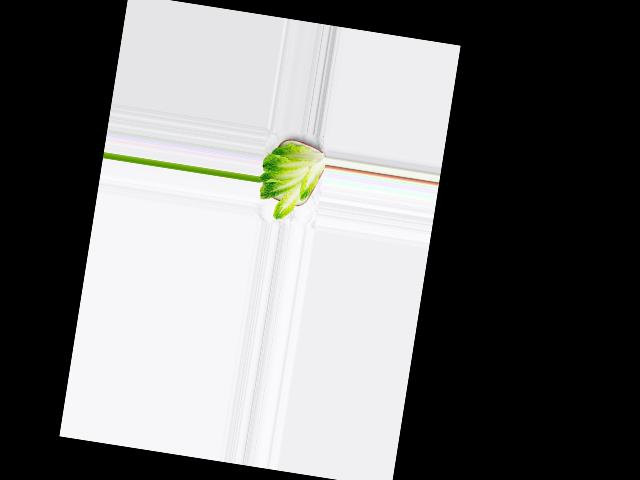lettuce: (252, 134, 326, 226)
